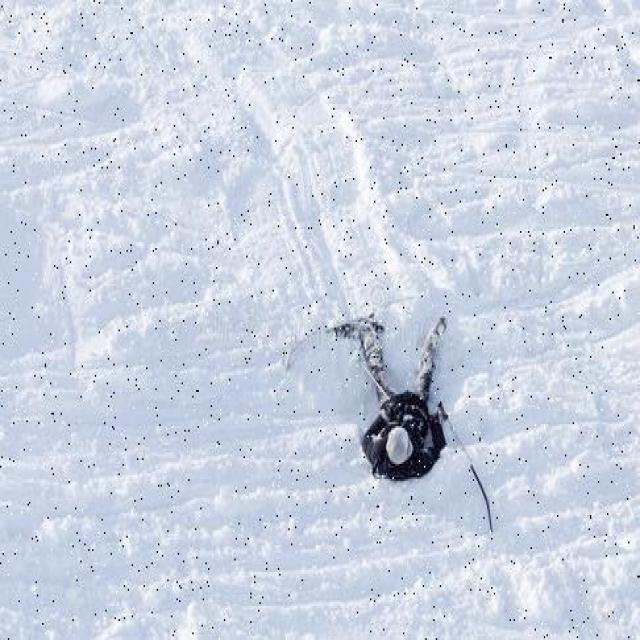fall: (357, 300, 453, 473)
